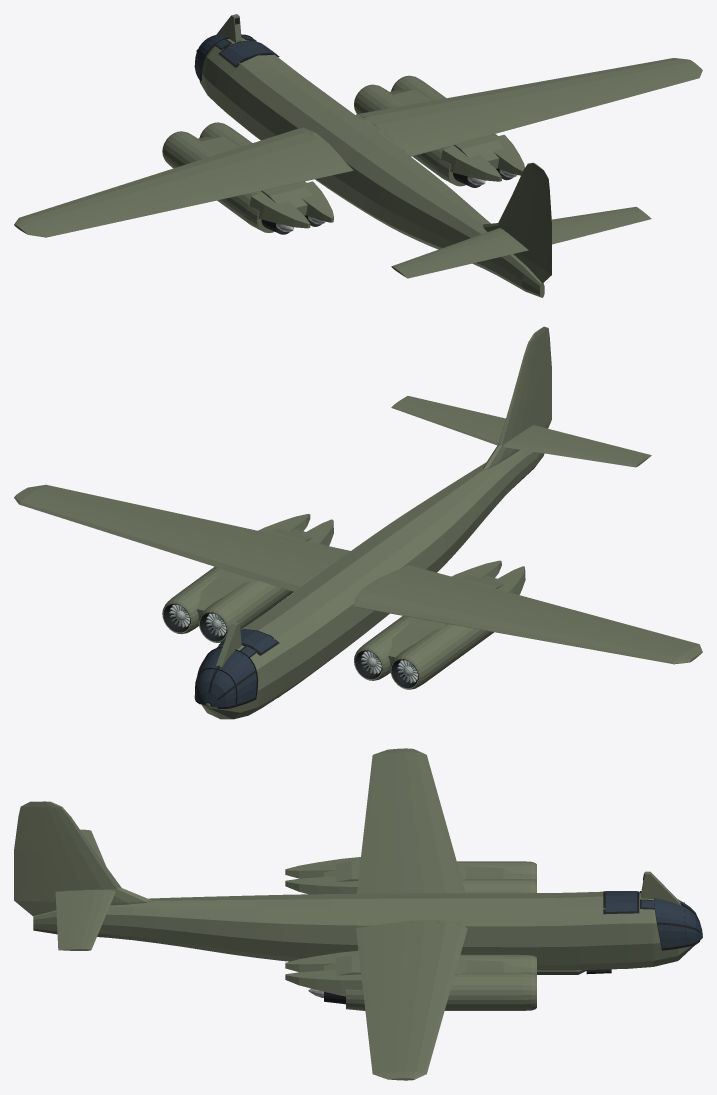
The picture shows the model from 3 angles, top to bottom: view 1: azimuth 30°, elevation 25°; view 2: azimuth 150°, elevation 25°; view 3: azimuth 270°, elevation 25°; orthographic projection.
Parts seen in each view (by area): view 1: Fuselage, Nacelles, Wing L, Wing R, Vertical Fin, Flap L, Flap R, Stabilizer L, Rudder, Aileron L, Aileron R, Cockpit Glass (+4 smaller); view 2: Fuselage, Nacelles, Wing L, Wing R, Cockpit Glass, Vertical Fin, Stabilizer L, Stabilizer R, Flap L, Flap R, Intake Cones, Rudder (+7 smaller); view 3: Fuselage, Nacelles, Wing R, Wing L, Vertical Fin, Rudder, Cockpit Glass, Stabilizer R, Flap R, Flap L, Aileron R, Elevator R (+3 smaller).
Part boxes in pixels (x1,y1,x2,y2): Fuselage: (199,37,544,297); Nacelles: (162,75,524,232); Wing L: (14,127,353,237); Wing R: (355,58,702,156); Vertical Fin: (483,162,548,265); Flap L: (175,159,345,207); Flap R: (403,104,568,155); Stabilizer L: (391,228,517,274); Rudder: (527,175,551,283); Aileron L: (44,201,174,236); Aileron R: (569,73,694,111); Cockpit Glass: (196,34,276,79); Fuselage: (201,450,544,719); Nacelles: (162,514,525,689); Wing L: (353,565,702,664); Wing R: (14,484,350,591); Cockpit Glass: (195,629,276,707); Vertical Fin: (483,326,548,470); Stabilizer L: (504,431,646,467); Stabilizer R: (391,399,503,445); Flap L: (403,567,568,613); Flap R: (175,514,345,556); Intake Cones: (169,604,417,683); Rudder: (537,328,551,428); Fuselage: (33,891,702,970); Nacelles: (285,857,536,1010); Wing R: (356,919,467,1080); Wing L: (365,748,465,893); Vertical Fin: (21,801,152,905); Rudder: (14,806,56,915); Cockpit Glass: (605,891,702,947); Stabilizer R: (69,889,115,950); Flap R: (356,928,384,1008); Flap L: (357,818,384,893); Aileron R: (365,1011,385,1071); Elevator R: (55,890,75,950).
Bounding box in the file's own units: 14.1 × 3.4 × 12.45.
